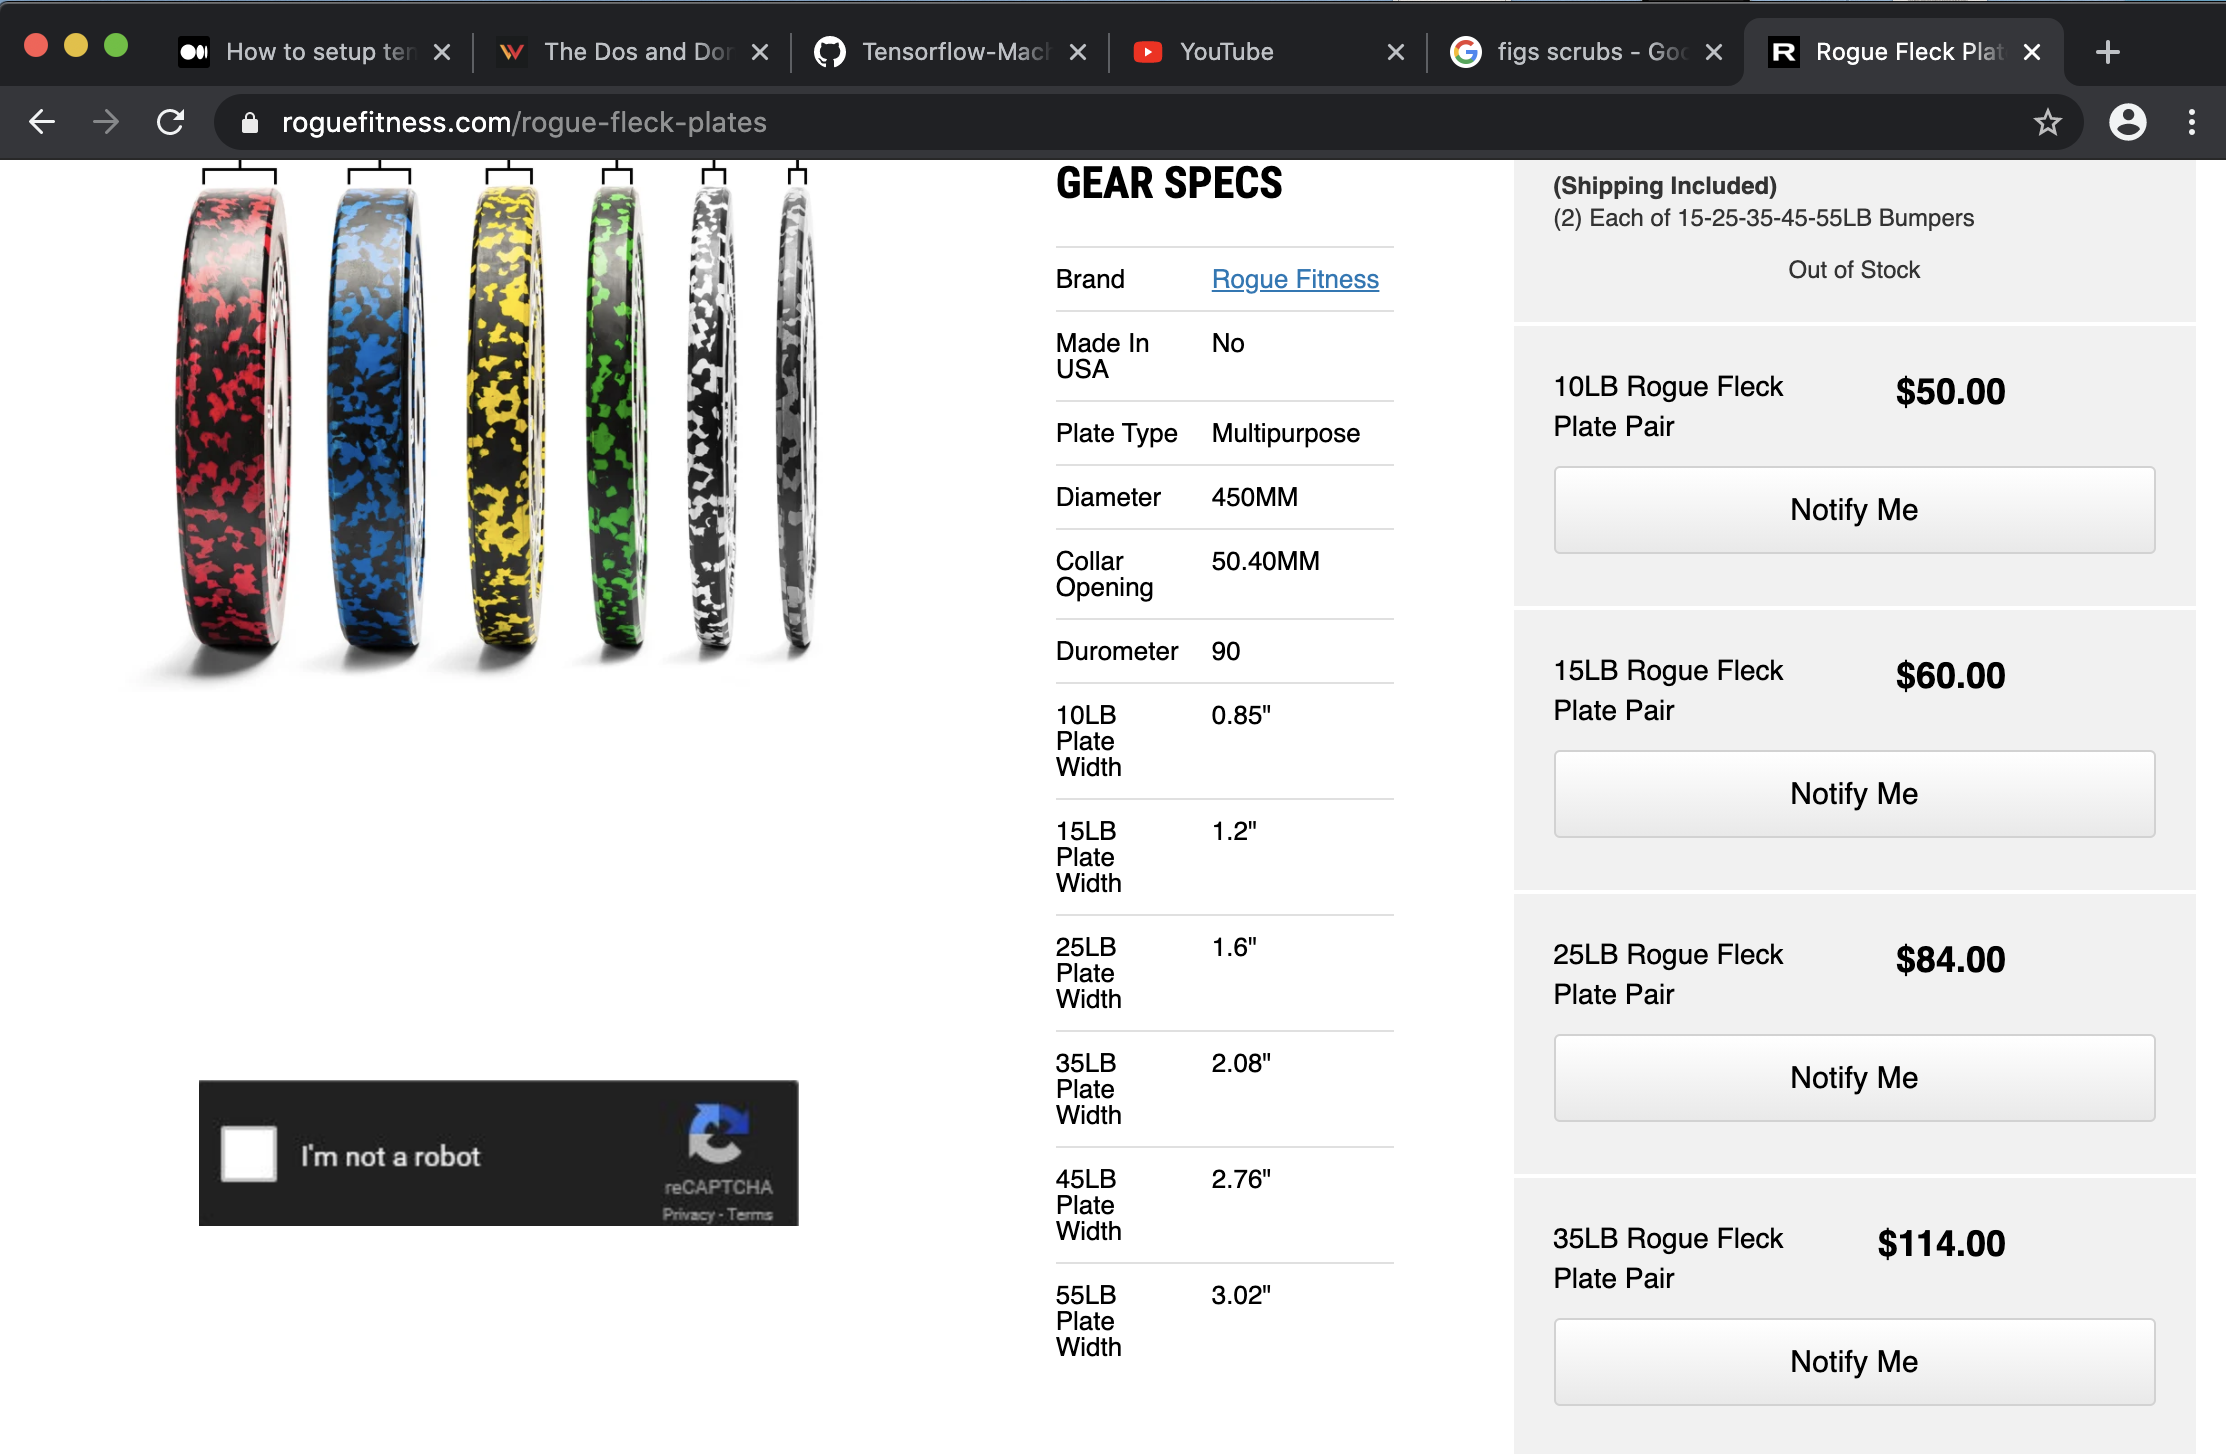captcha: (187, 1063, 829, 1253)
